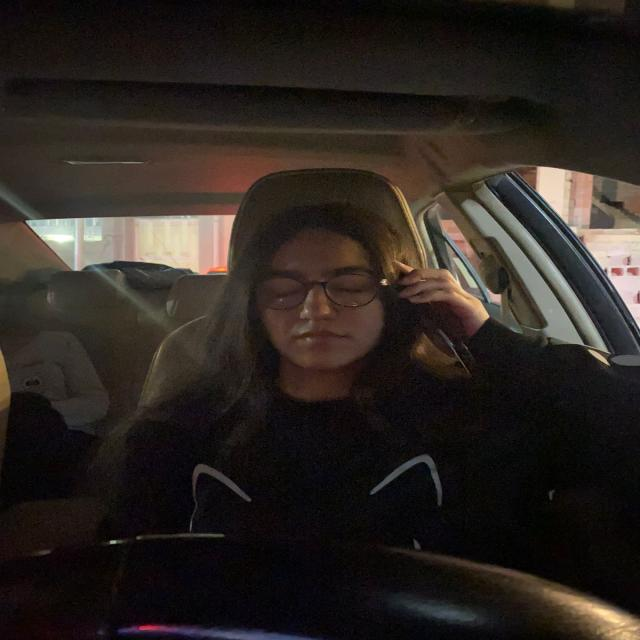mobile: (395, 276, 482, 386)
person: (237, 215, 399, 380)
